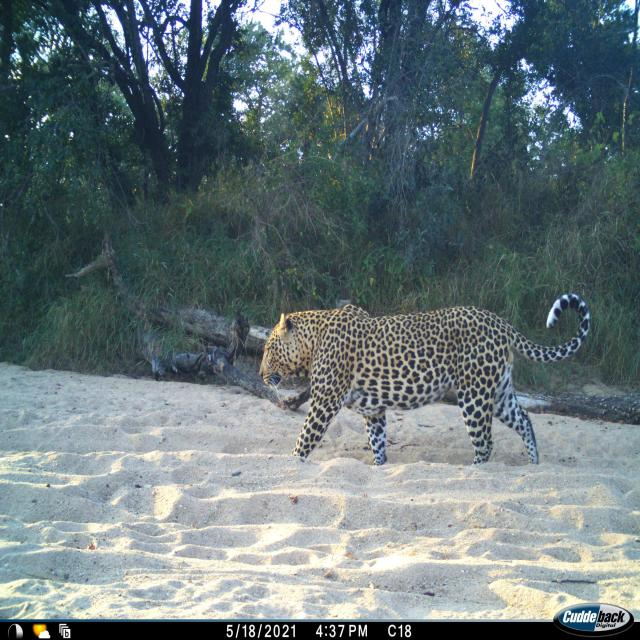Leopard: (250, 287, 588, 485)
